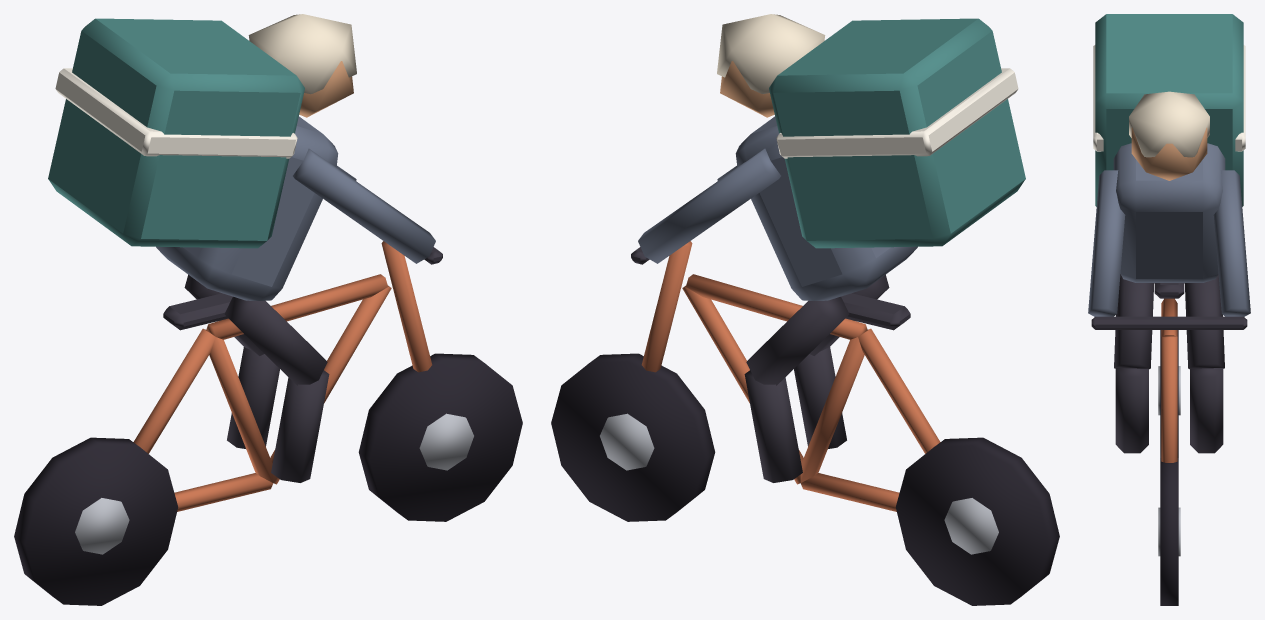
Rendered from era_delivery_bike.glb.
The picture shows the model from 3 angles, left to right: view 1: azimuth 30°, elevation 25°; view 2: azimuth 150°, elevation 25°; view 3: azimuth 270°, elevation 25°; orthographic projection. The views are drawn at different scales.
Parts seen in each view (by area): view 1: era_delivery_bike, bike_box; view 2: era_delivery_bike, bike_box; view 3: era_delivery_bike, bike_box.
Boxes of the visible parts, left/top/right/bottom form: era_delivery_bike: left=14, top=14, right=522, bottom=605; bike_box: left=48, top=18, right=304, bottom=248; era_delivery_bike: left=551, top=14, right=1059, bottom=605; bike_box: left=769, top=18, right=1025, bottom=248; era_delivery_bike: left=1088, top=91, right=1250, bottom=605; bike_box: left=1093, top=14, right=1245, bottom=206.
Bounding box in the file's own units: 1.3 × 1.36 × 0.4387.
